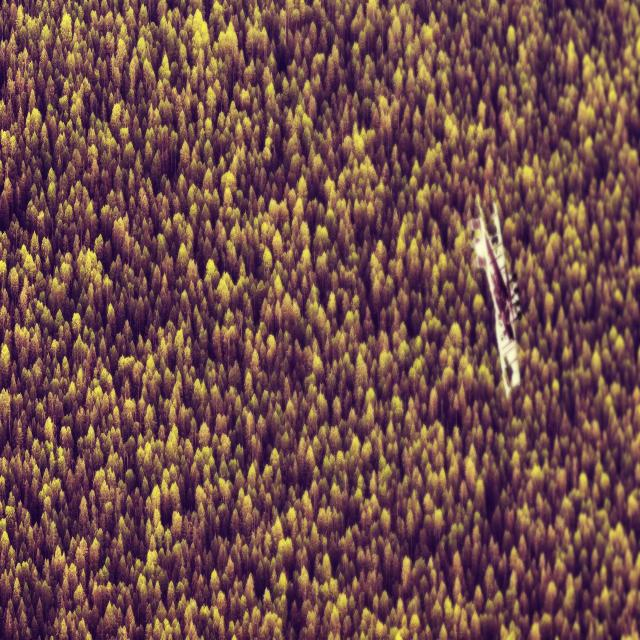airplane: (467, 197, 522, 399)
